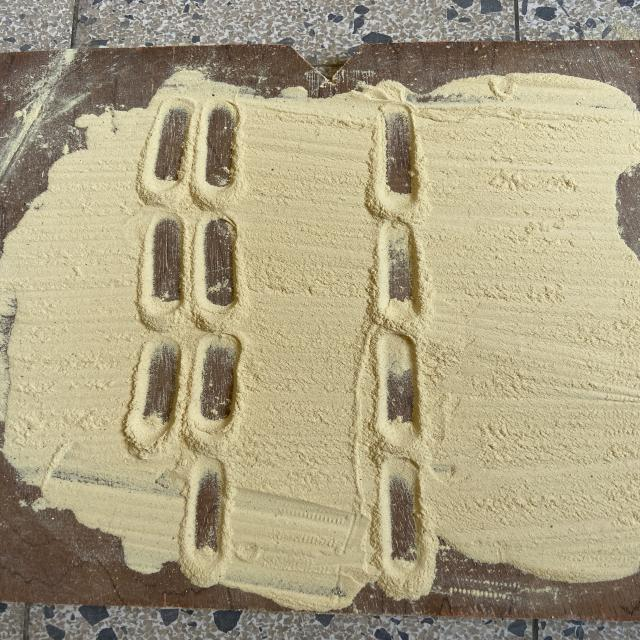double: (123, 333, 254, 457), (134, 210, 245, 334), (140, 99, 248, 207)
single: (368, 456, 437, 594), (364, 330, 432, 453), (366, 101, 430, 220), (180, 458, 235, 582), (368, 224, 430, 328)
